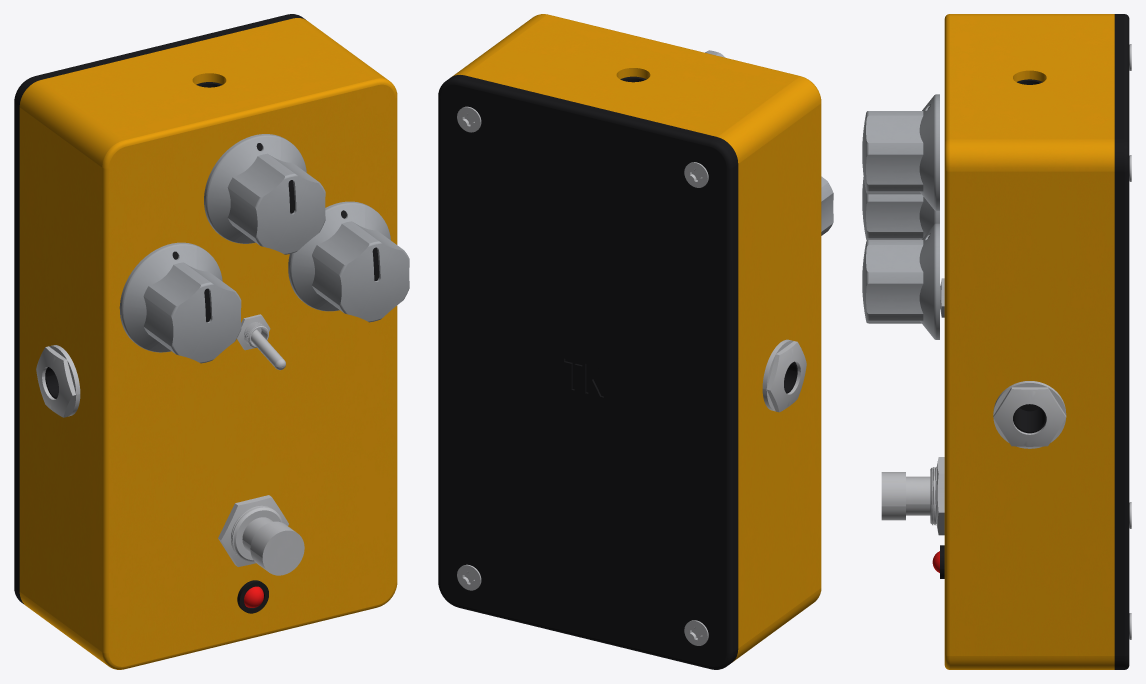
The model's file is Pedal3S.glb.
3 renders of one model, left to right at view 1: azimuth 30°, elevation 25°; view 2: azimuth 150°, elevation 25°; view 3: azimuth 270°, elevation 25°, orthographic.
Parts seen in each view (by area): view 1: Shape_IndexedFaceSet.391, Shape_IndexedFaceSet.360, Shape_IndexedFaceSet.368, Shape_IndexedFaceSet.396, Shape_IndexedFaceSet.400, Shape_IndexedFaceSet.044, Shape_IndexedFaceSet.247, Shape_IndexedFaceSet.325, Shape_IndexedFaceSet.286, Shape_IndexedFaceSet.296, Shape_IndexedFaceSet.335, Shape_IndexedFaceSet.257 (+20 smaller); view 2: Shape_IndexedFaceSet, Shape_IndexedFaceSet.360, Shape_IndexedFaceSet.368, Shape_IndexedFaceSet.051, Shape_IndexedFaceSet.396, Shape_IndexedFaceSet.044, Shape_IndexedFaceSet.053, Shape_IndexedFaceSet.055, Shape_IndexedFaceSet.046, Shape_IndexedFaceSet.394, Shape_IndexedFaceSet.049, Shape_IndexedFaceSet.197 (+1 smaller); view 3: Shape_IndexedFaceSet.361, Shape_IndexedFaceSet.368, Shape_IndexedFaceSet.395, Shape_IndexedFaceSet.040, Shape_IndexedFaceSet.055, Shape_IndexedFaceSet.404, Shape_IndexedFaceSet.392, Shape_IndexedFaceSet.269, Shape_IndexedFaceSet.308, Shape_IndexedFaceSet.347, Shape_IndexedFaceSet.346, Shape_IndexedFaceSet.307 (+16 smaller).
Boxes of the visible parts, x1,y1,x2,y2 form: Shape_IndexedFaceSet.391: [109, 84, 394, 666]; Shape_IndexedFaceSet.360: [19, 107, 102, 651]; Shape_IndexedFaceSet.368: [41, 18, 375, 140]; Shape_IndexedFaceSet.396: [19, 80, 122, 167]; Shape_IndexedFaceSet.400: [102, 168, 108, 653]; Shape_IndexedFaceSet.044: [14, 104, 19, 591]; Shape_IndexedFaceSet.247: [123, 245, 196, 349]; Shape_IndexedFaceSet.325: [207, 137, 280, 241]; Shape_IndexedFaceSet.286: [291, 204, 365, 308]; Shape_IndexedFaceSet.296: [340, 243, 391, 317]; Shape_IndexedFaceSet.335: [256, 176, 307, 249]; Shape_IndexedFaceSet.257: [172, 284, 223, 358]; Shape_IndexedFaceSet: [440, 84, 726, 666]; Shape_IndexedFaceSet.360: [738, 104, 820, 648]; Shape_IndexedFaceSet.368: [465, 15, 799, 136]; Shape_IndexedFaceSet.051: [726, 168, 733, 653]; Shape_IndexedFaceSet.396: [717, 76, 820, 163]; Shape_IndexedFaceSet.044: [733, 164, 738, 651]; Shape_IndexedFaceSet.053: [457, 79, 711, 146]; Shape_IndexedFaceSet.055: [438, 97, 440, 582]; Shape_IndexedFaceSet.046: [460, 75, 716, 140]; Shape_IndexedFaceSet.394: [733, 588, 820, 661]; Shape_IndexedFaceSet.049: [457, 605, 710, 669]; Shape_IndexedFaceSet.197: [770, 349, 792, 412]; Shape_IndexedFaceSet.361: [949, 171, 1114, 655]; Shape_IndexedFaceSet.368: [949, 16, 1114, 139]; Shape_IndexedFaceSet.395: [949, 139, 1114, 171]; Shape_IndexedFaceSet.040: [1114, 171, 1124, 655]; Shape_IndexedFaceSet.055: [1124, 170, 1129, 655]; Shape_IndexedFaceSet.404: [944, 170, 949, 655]; Shape_IndexedFaceSet.392: [949, 656, 1114, 669]; Shape_IndexedFaceSet.269: [866, 201, 923, 231]; Shape_IndexedFaceSet.308: [866, 283, 923, 313]; Shape_IndexedFaceSet.347: [866, 154, 922, 184]; Shape_IndexedFaceSet.346: [866, 115, 922, 142]; Shape_IndexedFaceSet.307: [866, 245, 922, 272].
Size of the model in its own units: 0.7551 by 1.2 by 0.555.
5 materials, 4 textured.
